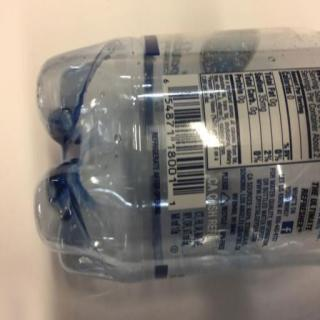Plastic-bottle: (31, 26, 320, 286)
